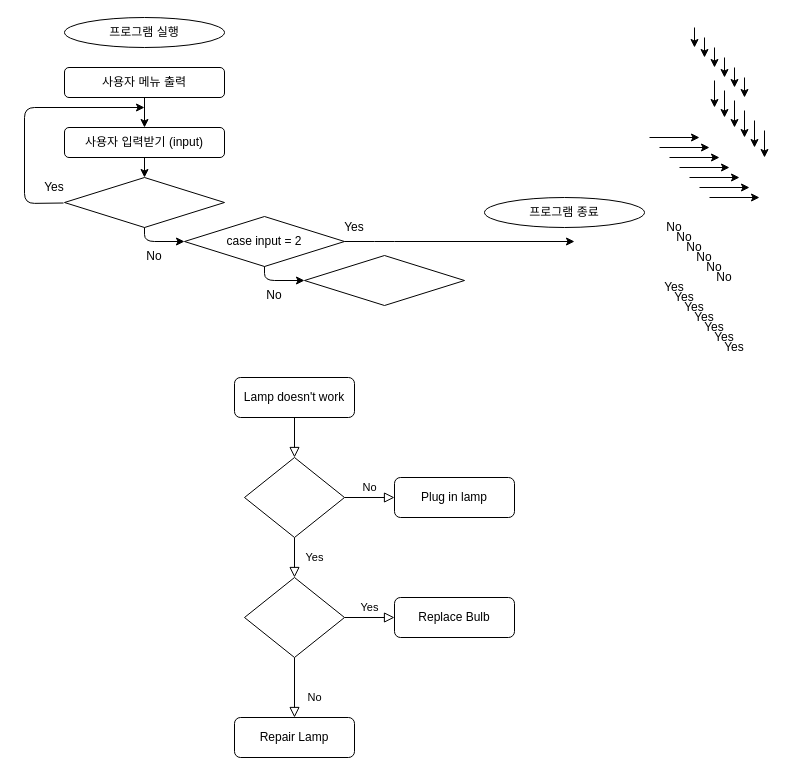
Image size: 790x775. Some labels were removed from this diagram. The centre of each missing label's shape, as x and y in pixels:
Bulb burned out?: pixel 294 617
case input = 1: pixel 384 280
case input이 1 또는 2가 아님: pixel 144 202
Lamp plugged in?: pixel 294 497
